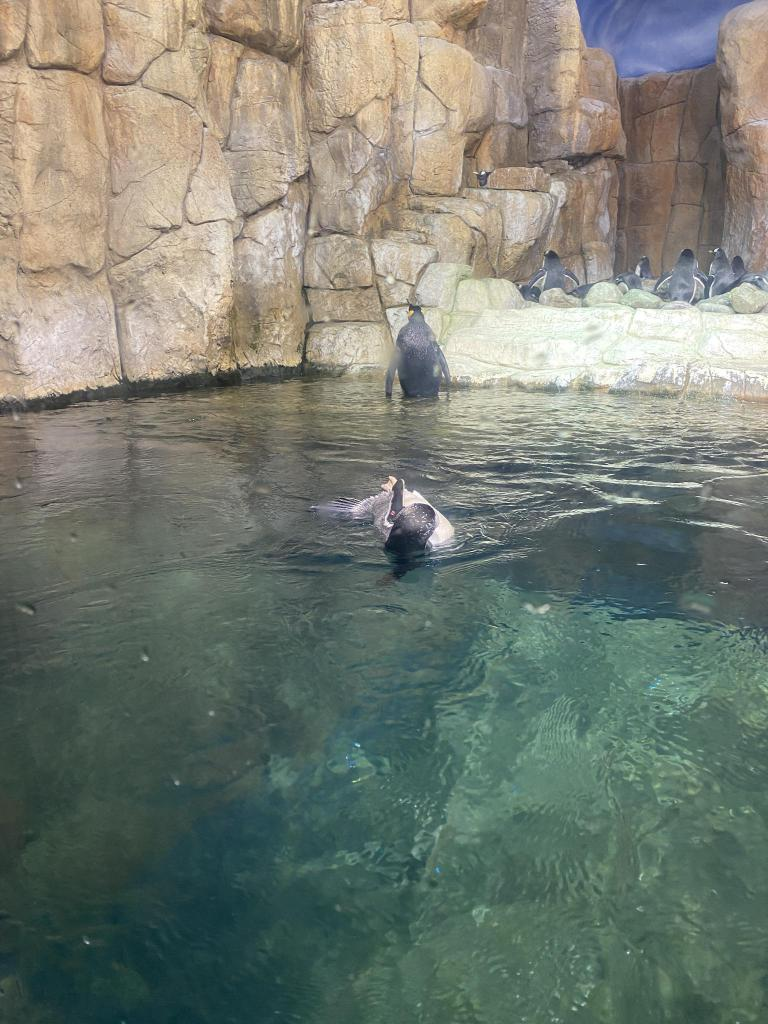penguin: (348, 476, 458, 566), (379, 294, 457, 412), (660, 242, 706, 310), (530, 244, 576, 302), (702, 241, 730, 301), (470, 163, 508, 197), (730, 252, 752, 294), (626, 254, 654, 280)
